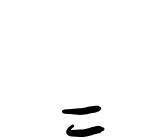eqv: (61, 100, 107, 137)
